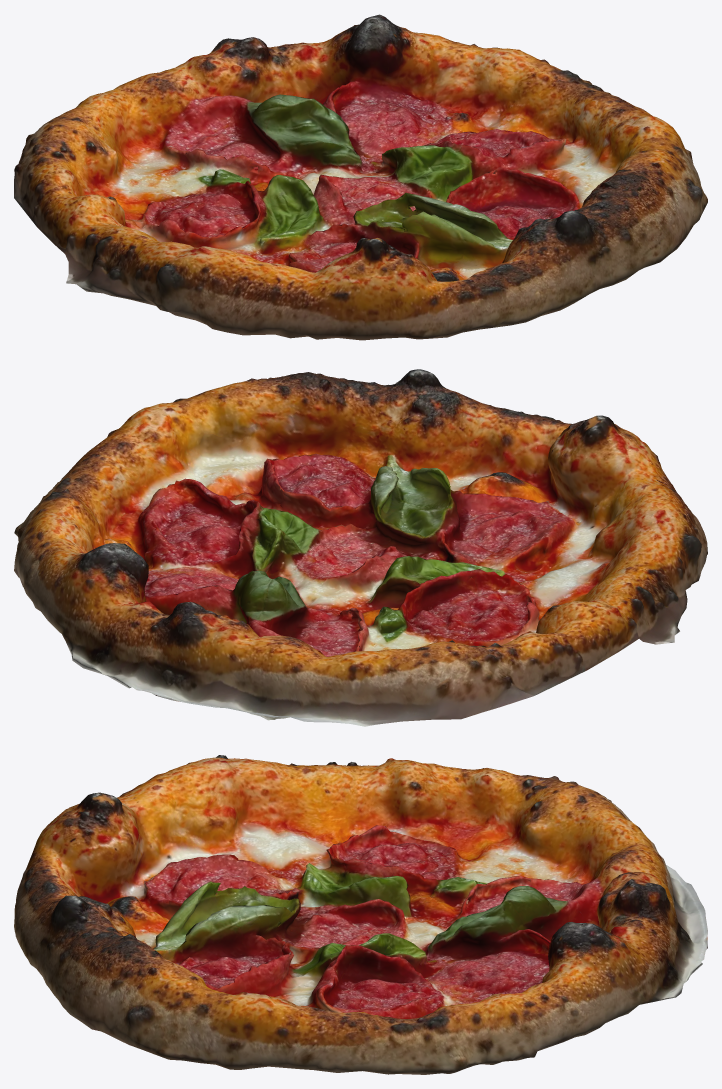
The model's file is pepperoni.glb.
The picture shows the model from 3 angles, top to bottom: view 1: azimuth 30°, elevation 25°; view 2: azimuth 150°, elevation 25°; view 3: azimuth 270°, elevation 25°; orthographic projection. The views are drawn at different scales.
Size of the model in its own units: 0.924 by 0.1518 by 0.9196.
1 material, 1 textured.
